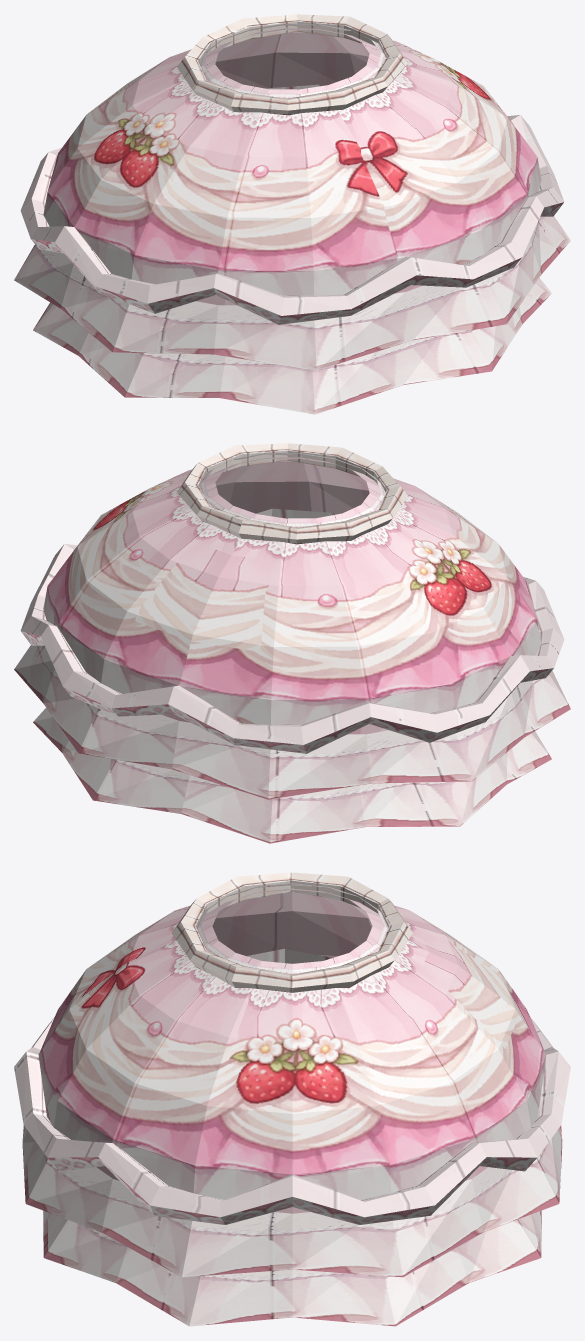
File: outfit_skirt.obj
3 renders of one model, top to bottom at view 1: azimuth 30°, elevation 25°; view 2: azimuth 150°, elevation 25°; view 3: azimuth 270°, elevation 25°, orthographic. The views are drawn at different scales.
Parts seen in each view (by area): view 1: skirt_overskirt_skirt, skirt_ruffle_tier_skirt, skirt_petticoat_skirt, skirt_hem_piping_skirt, skirt_pleated_skirt_skirt, skirt_waist_piping_skirt; view 2: skirt_overskirt_skirt, skirt_ruffle_tier_skirt, skirt_petticoat_skirt, skirt_hem_piping_skirt, skirt_waist_piping_skirt, skirt_pleated_skirt_skirt, skirt_bloomers_hips; view 3: skirt_overskirt_skirt, skirt_ruffle_tier_skirt, skirt_petticoat_skirt, skirt_hem_piping_skirt, skirt_pleated_skirt_skirt, skirt_waist_piping_skirt, skirt_bloomers_hips.
Boxes of the visible parts, x1,y1,x2,y2 form: skirt_overskirt_skirt: (43,24,541,295); skirt_ruffle_tier_skirt: (14,216,570,370); skirt_petticoat_skirt: (33,278,551,414); skirt_hem_piping_skirt: (20,115,564,324); skirt_pleated_skirt_skirt: (196,28,422,305); skirt_waist_piping_skirt: (177,14,407,115); skirt_overskirt_skirt: (43,453,541,724); skirt_ruffle_tier_skirt: (14,645,570,799); skirt_petticoat_skirt: (33,708,551,843); skirt_hem_piping_skirt: (20,544,564,753); skirt_waist_piping_skirt: (177,443,407,544); skirt_pleated_skirt_skirt: (162,457,388,734); skirt_bloomers_hips: (256,508,334,518); skirt_overskirt_skirt: (38,883,546,1199); skirt_ruffle_tier_skirt: (22,1125,562,1277); skirt_petticoat_skirt: (43,1210,541,1326); skirt_hem_piping_skirt: (14,1017,570,1224); skirt_pleated_skirt_skirt: (96,888,488,1213); skirt_waist_piping_skirt: (172,872,412,992); skirt_bloomers_hips: (246,948,331,963).
Size of the model in its own units: 0.4837 by 0.2498 by 0.4382.
1 material, 1 textured.
